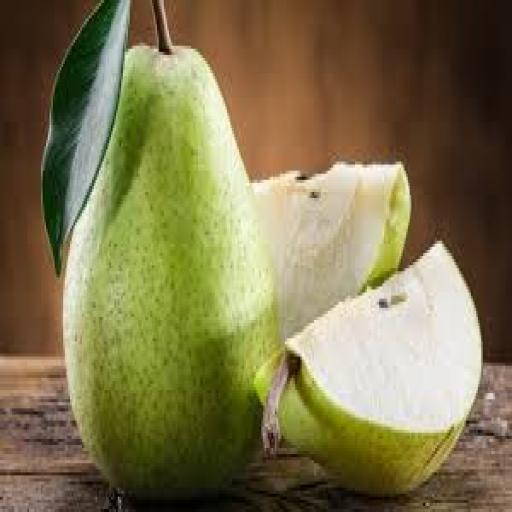Pear: (64, 46, 278, 499), (279, 244, 481, 496), (253, 165, 411, 338)
